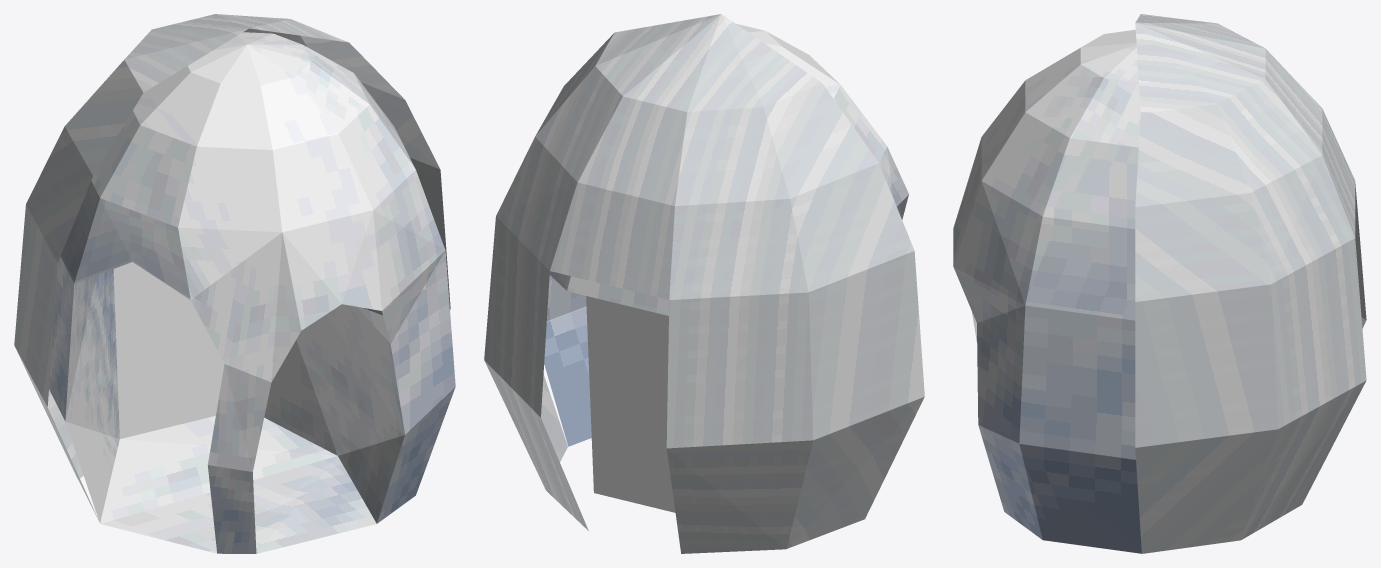
The picture shows the model from 3 angles, left to right: view 1: azimuth 30°, elevation 25°; view 2: azimuth 150°, elevation 25°; view 3: azimuth 270°, elevation 25°; orthographic projection.
Visible parts, largest first — view 1: polygon0, polygon1; view 2: polygon1, polygon0; view 3: polygon1, polygon0.
Boxes of the visible parts, bbox=[...] form: polygon0: bbox=[49, 32, 455, 553]; polygon1: bbox=[14, 14, 450, 520]; polygon1: bbox=[484, 14, 924, 553]; polygon0: bbox=[544, 23, 908, 518]; polygon1: bbox=[1135, 14, 1366, 553]; polygon0: bbox=[953, 29, 1141, 553].
Size of the model in its own units: 6.66 by 7.3 by 5.95.
2 materials, 2 textured.
